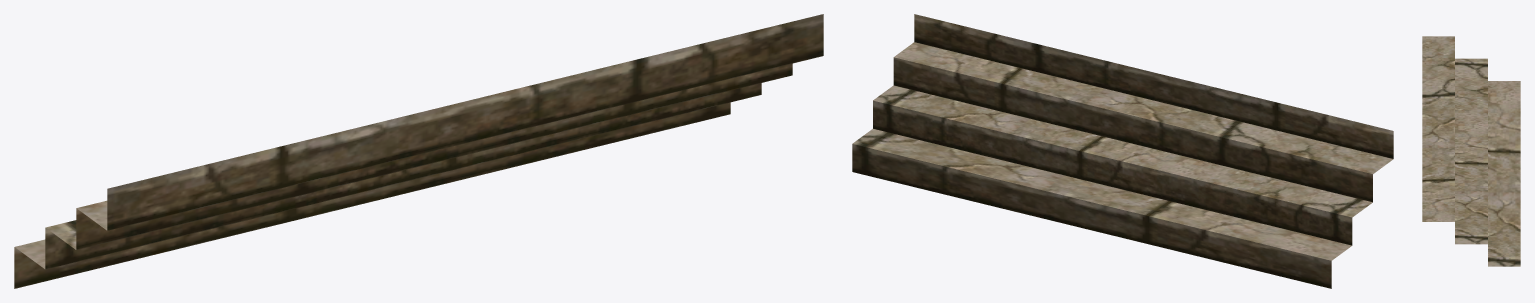
Rendered from OVERHILL_A_01_OBJECT204.fbx.
3 views of the same model, side by side, from view 1: azimuth 30°, elevation 25°; view 2: azimuth 150°, elevation 25°; view 3: azimuth 270°, elevation 25° (orthographic). The views are drawn at different scales.
Visible parts, largest first — view 1: OVERHILL_A_01_OBJECT204; view 2: OVERHILL_A_01_OBJECT204; view 3: OVERHILL_A_01_OBJECT204.
Part boxes in pixels (bbox=[...]): OVERHILL_A_01_OBJECT204: bbox=[14, 14, 823, 288]; OVERHILL_A_01_OBJECT204: bbox=[852, 14, 1393, 288]; OVERHILL_A_01_OBJECT204: bbox=[1422, 36, 1520, 266].
Size of the model in its own units: 53507 by 12000 by 12000.
Materials: 1 (1 with a texture image).
